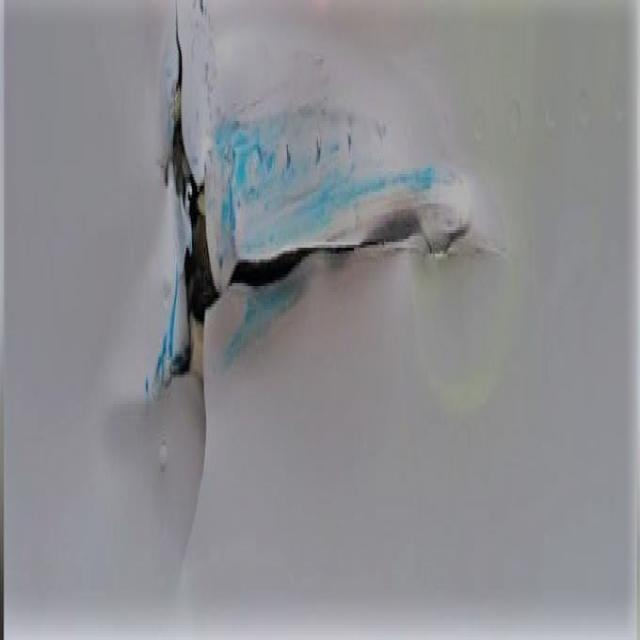Rupture: (104, 23, 495, 531)
